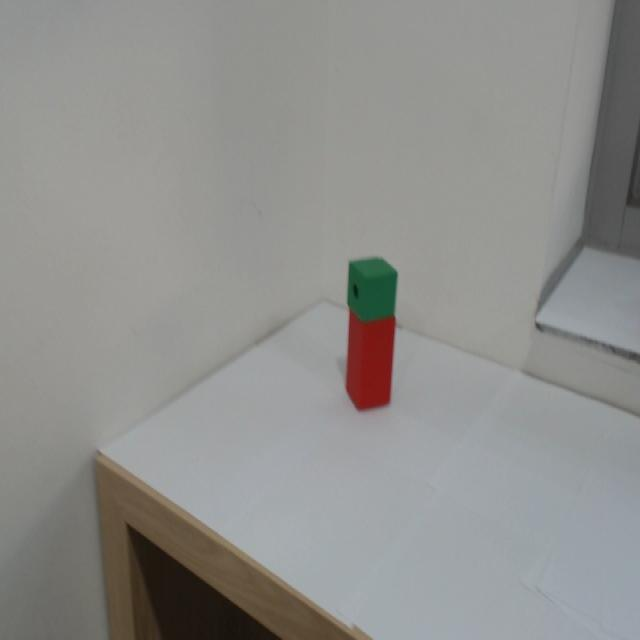cube: (341, 247, 412, 328)
